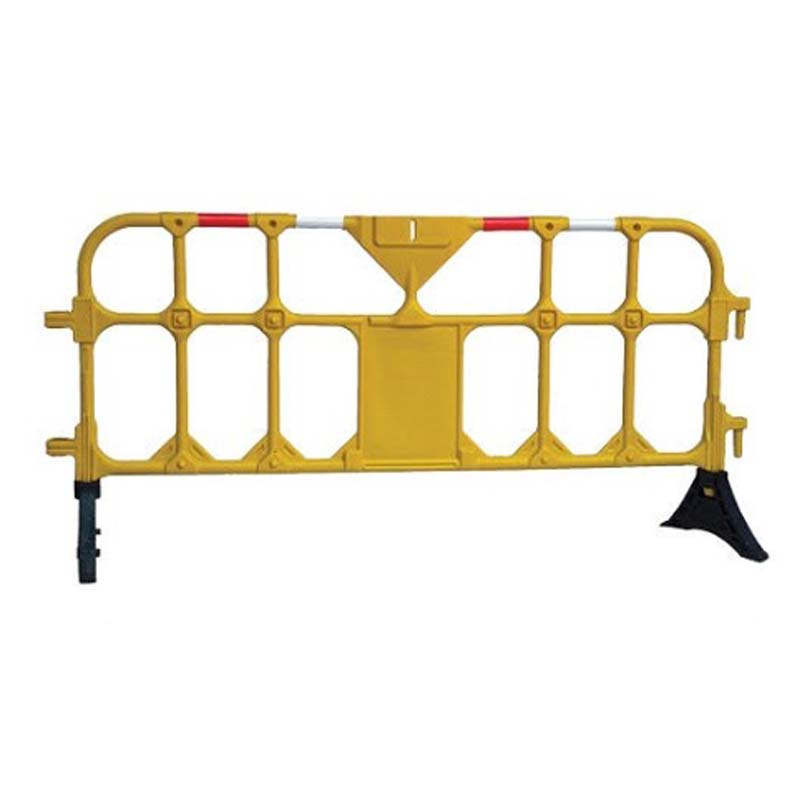Barrier: (31, 182, 780, 623)
